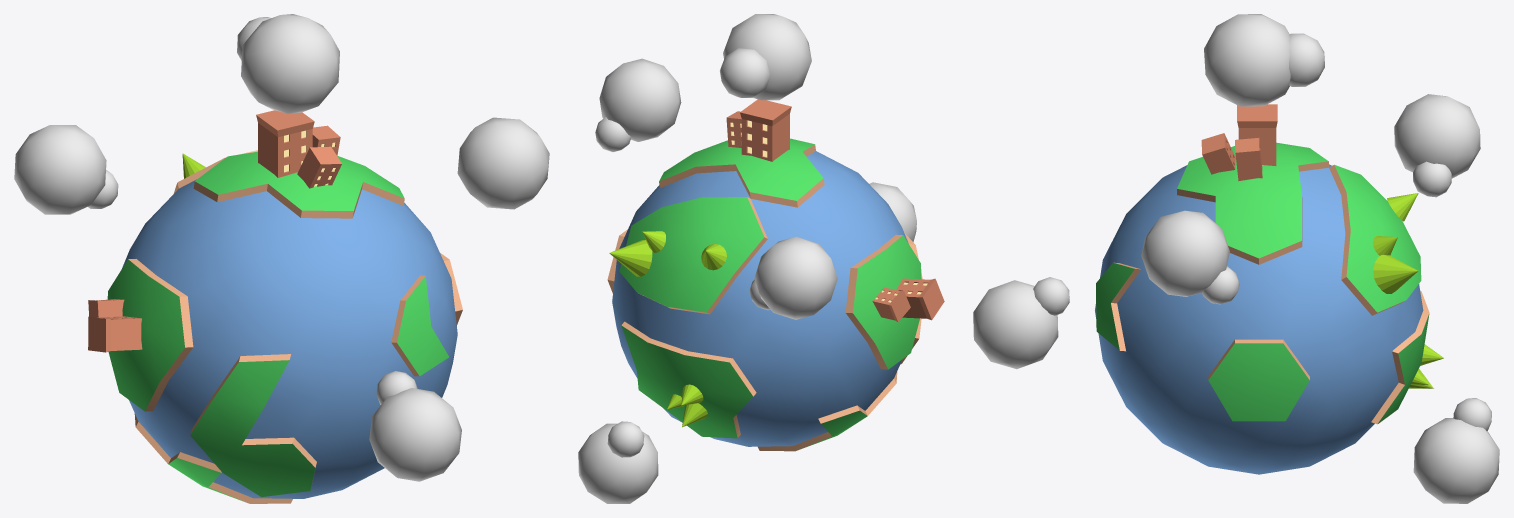
The model's file is Earth.gltf.
3 views of the same model, side by side, from view 1: azimuth 30°, elevation 25°; view 2: azimuth 150°, elevation 25°; view 3: azimuth 270°, elevation 25° (orthographic). The views are drawn at different scales.
Visible parts, largest first — view 1: Earth; view 2: Earth; view 3: Earth.
Boxes of the visible parts, x1,y1,x2,y2 form: Earth: (14, 14, 549, 503); Earth: (578, 14, 944, 503); Earth: (973, 14, 1499, 503).
Size of the model in its own units: 2.74 by 3.06 by 3.21.
